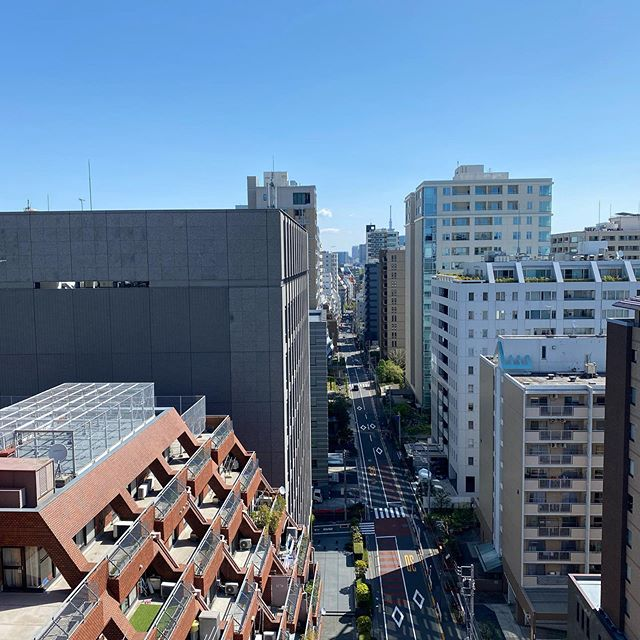building: (1, 189, 312, 518), (1, 401, 309, 640), (432, 259, 640, 476), (472, 339, 616, 591), (407, 177, 546, 264), (368, 234, 411, 355), (554, 209, 640, 262)
sky: (1, 1, 633, 214)
street: (341, 328, 456, 640)
